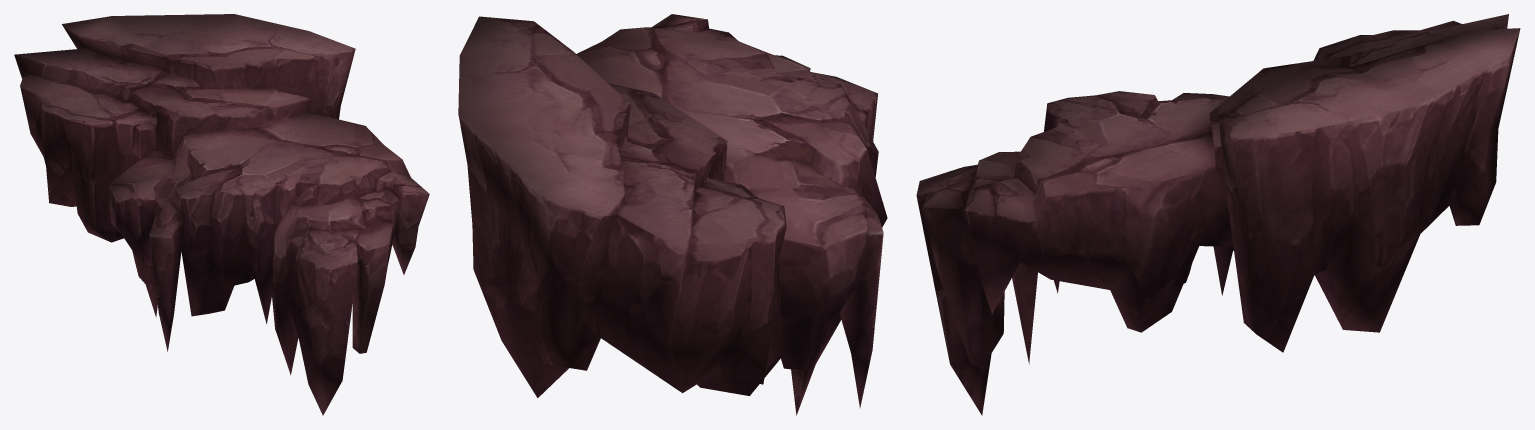
File: Area_01_18.fbx
3 renders of one model, left to right at view 1: azimuth 30°, elevation 25°; view 2: azimuth 150°, elevation 25°; view 3: azimuth 270°, elevation 25°, orthographic. The views are drawn at different scales.
Parts seen in each view (by area): view 1: Area_01_18; view 2: Area_01_18; view 3: Area_01_18.
Part boxes in pixels (box(x1,y1,x2,y2)): Area_01_18: box(14, 14, 429, 415); Area_01_18: box(458, 14, 887, 415); Area_01_18: box(916, 14, 1520, 415).
Bounding box in the file's own units: 1414 × 1423 × 2172.
